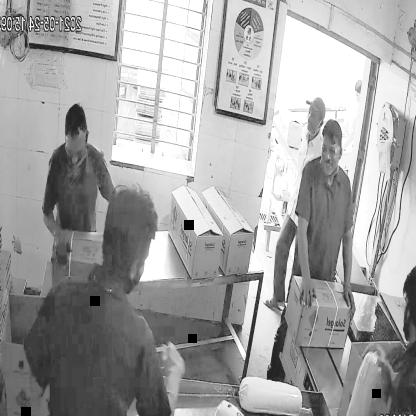goggles: (318, 140, 346, 160)
